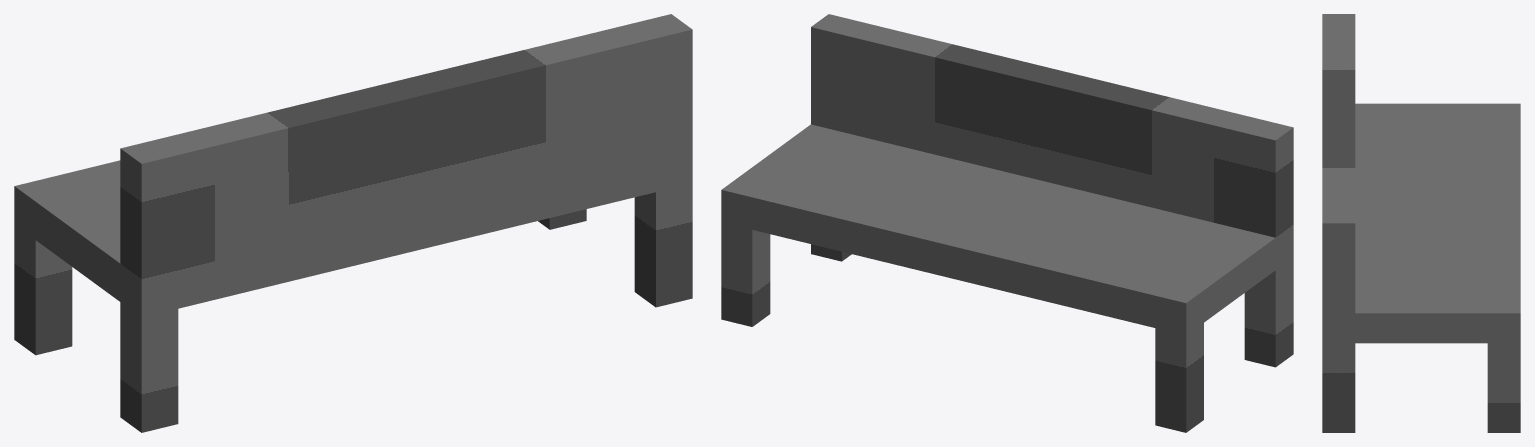
The model's file is obj_bench4.fbx.
3 renders of one model, left to right at view 1: azimuth 30°, elevation 25°; view 2: azimuth 150°, elevation 25°; view 3: azimuth 270°, elevation 25°, orthographic. The views are drawn at different scales.
Parts seen in each view (by area): view 1: obj_bench4; view 2: obj_bench4; view 3: obj_bench4.
Boxes of the visible parts, x1,y1,x2,y2 form: obj_bench4: (14,14,692,432); obj_bench4: (721,14,1293,432); obj_bench4: (1322,14,1520,432).
Bounding box in the file's own units: 1.5 × 0.6 × 0.7.
Materials: 1 (1 with a texture image).
